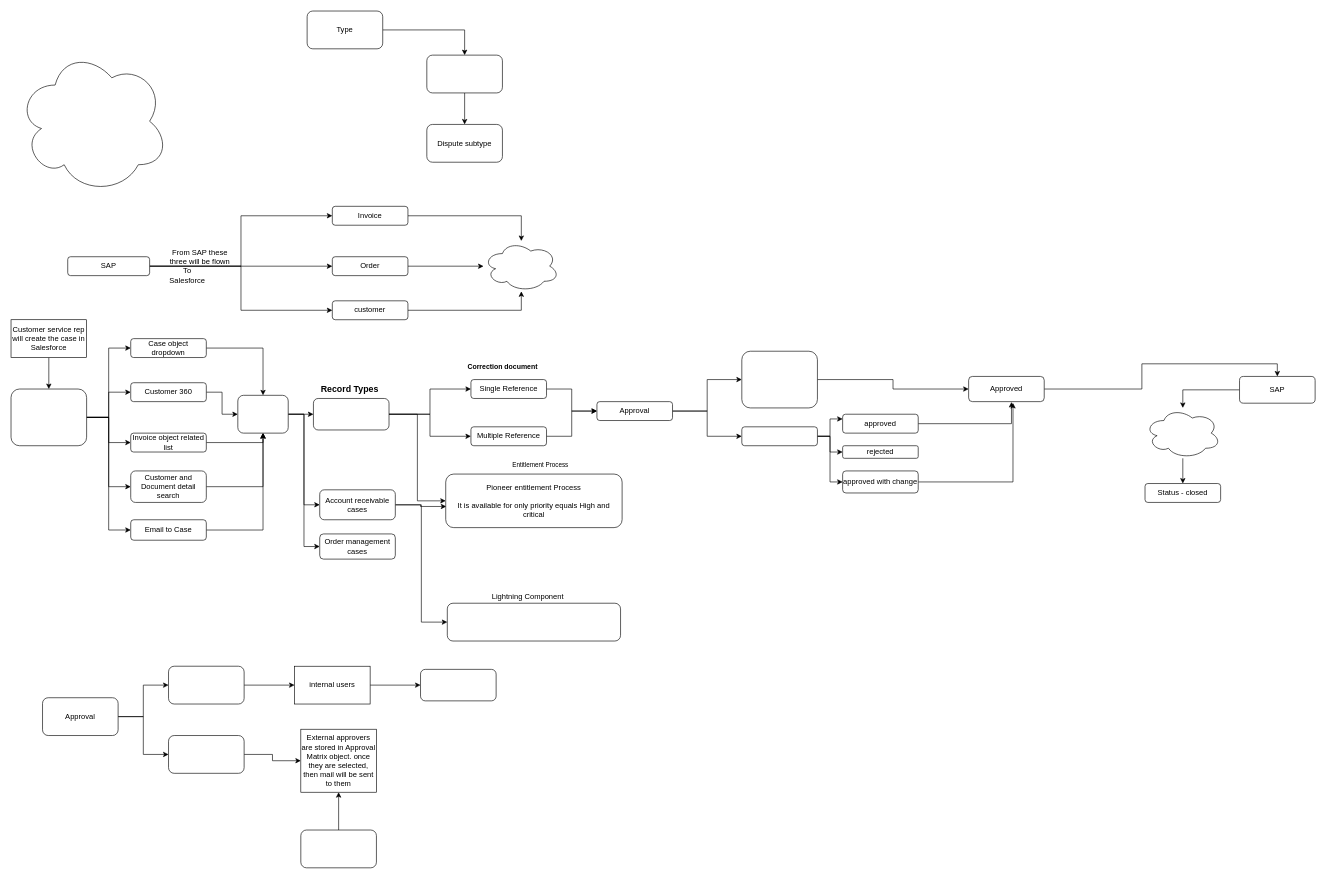
Image size: 1326x879. Some labels were removed from this diagram. The centre of each missing label's shape, as x and y in pixels:
Approval via email, external approvers: (779,436)
Case: (262,414)
Dispute Breakdown: (464,73)
Dispute Cases: (351,414)
Document no: (1182,432)
external approval: (206,754)
Five ways of creating a case: (48,417)
In Salesforce creating a case and tracking the case: (93,121)
Internal approval: (206,685)
Manual approval - some users are internal salesforce users.: (779,379)
PNR_ARCaseComponent Gives instructions to user who is working on the case: (534,622)
Salesforce: (521,265)
SharePoint: (338,848)
users will be added to queues: (458,685)
